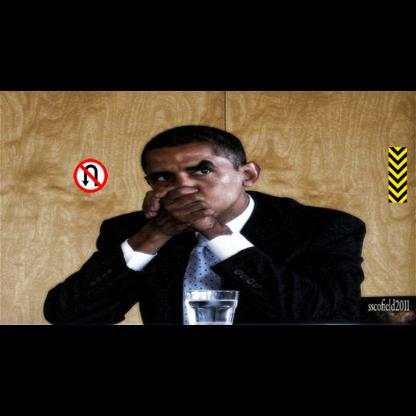O-MP: (389, 147, 407, 202)
R-5a: (73, 159, 108, 192)
